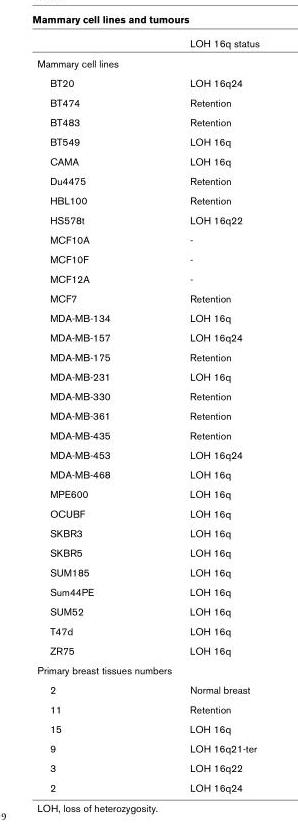table: (36, 36, 258, 793)
table column: (36, 36, 180, 793), (180, 36, 258, 793)
table column header: (36, 36, 258, 52)
table projected row header: (36, 52, 258, 72), (36, 659, 258, 679)
table row: (36, 52, 258, 72), (36, 72, 258, 92), (36, 111, 258, 131), (36, 131, 258, 151), (36, 170, 258, 190), (36, 209, 258, 229), (36, 248, 258, 268), (36, 268, 258, 288), (36, 307, 258, 327), (36, 346, 258, 366), (36, 385, 258, 405), (36, 405, 258, 425), (36, 444, 258, 464), (36, 483, 258, 503), (36, 522, 258, 542), (36, 542, 258, 562), (36, 581, 258, 601), (36, 620, 258, 640), (36, 659, 258, 679), (36, 679, 258, 699), (36, 718, 258, 738), (36, 757, 258, 777), (36, 92, 258, 111), (36, 151, 258, 170), (36, 190, 258, 209), (36, 229, 258, 248), (36, 288, 258, 307), (36, 327, 258, 346), (36, 366, 258, 385), (36, 425, 258, 444), (36, 464, 258, 483), (36, 503, 258, 522), (36, 562, 258, 581), (36, 601, 258, 620), (36, 640, 258, 659), (36, 699, 258, 718), (36, 738, 258, 757), (36, 36, 258, 52), (36, 777, 258, 793)
